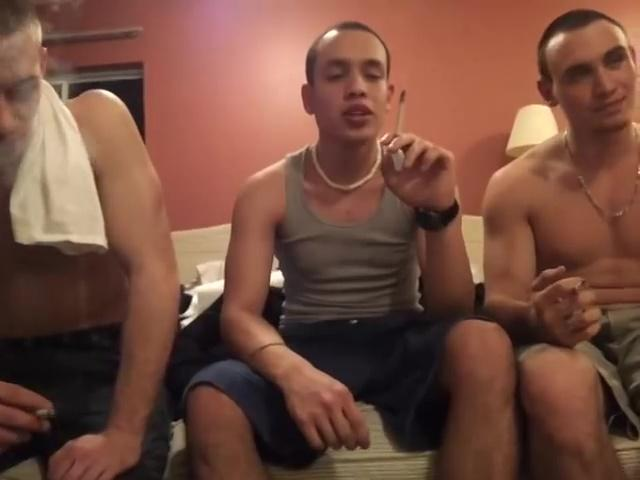cigarette: (393, 85, 412, 144), (570, 275, 589, 302), (32, 405, 60, 422)
